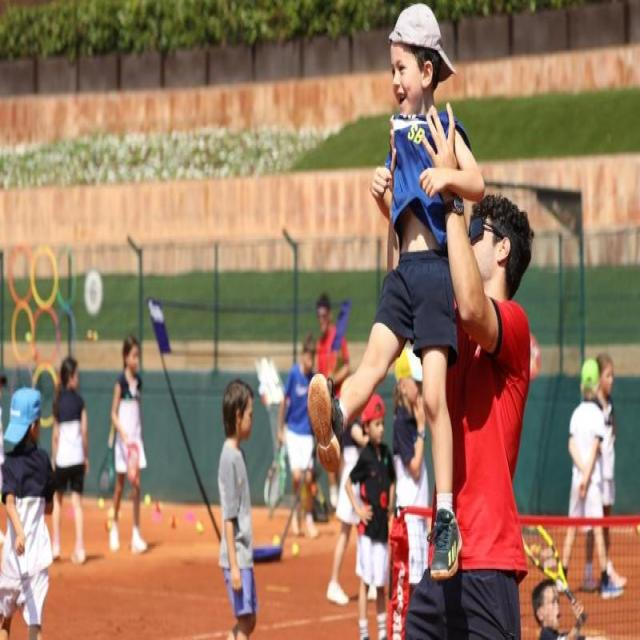nike: (291, 375, 311, 405)
